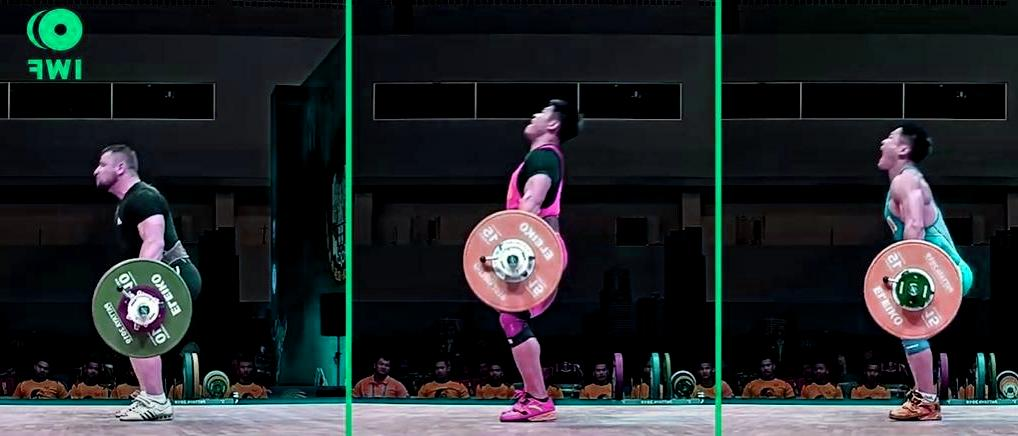Barbell: (903, 278, 924, 301), (501, 250, 523, 269), (132, 303, 151, 322)
